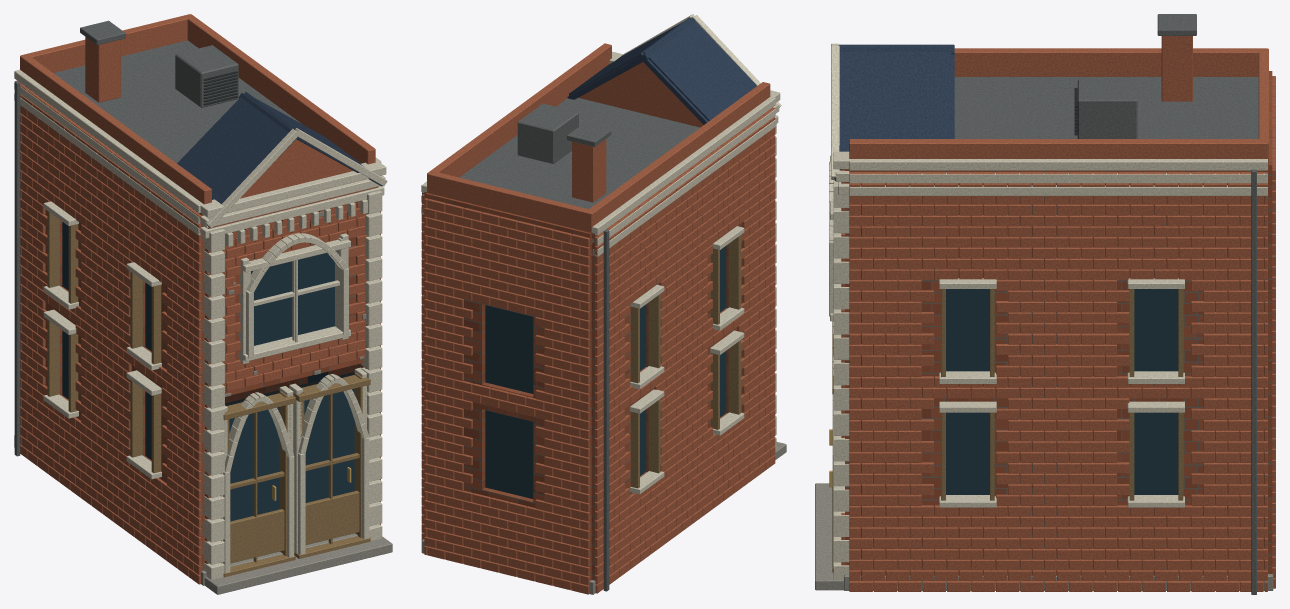
File: CLSTGA17_lod0.glb
3 renders of one model, left to right at view 1: azimuth 30°, elevation 25°; view 2: azimuth 150°, elevation 25°; view 3: azimuth 270°, elevation 25°, orthographic. The views are drawn at different scales.
Visible parts, largest first — view 1: CLSTGA17_LOD0; view 2: CLSTGA17_LOD0; view 3: CLSTGA17_LOD0.
Part boxes in pixels (box(x1,y1,x2,y2)): CLSTGA17_LOD0: box(14, 14, 392, 594); CLSTGA17_LOD0: box(421, 14, 786, 594); CLSTGA17_LOD0: box(815, 14, 1275, 594).
Size of the model in its own units: 3.71 by 7.86 by 6.6.
13 materials, 10 textured.
